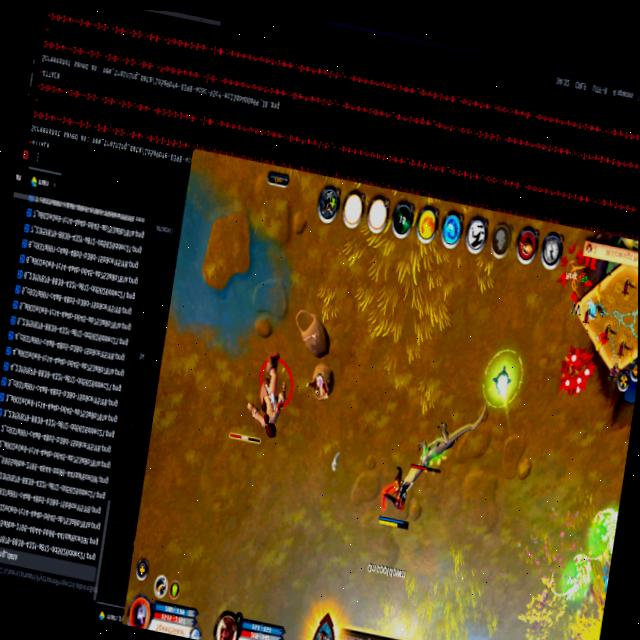hide: (550, 337, 603, 412), (595, 547, 613, 598)
ore: (401, 378, 496, 507), (221, 341, 305, 463)
red: (372, 456, 422, 544)
